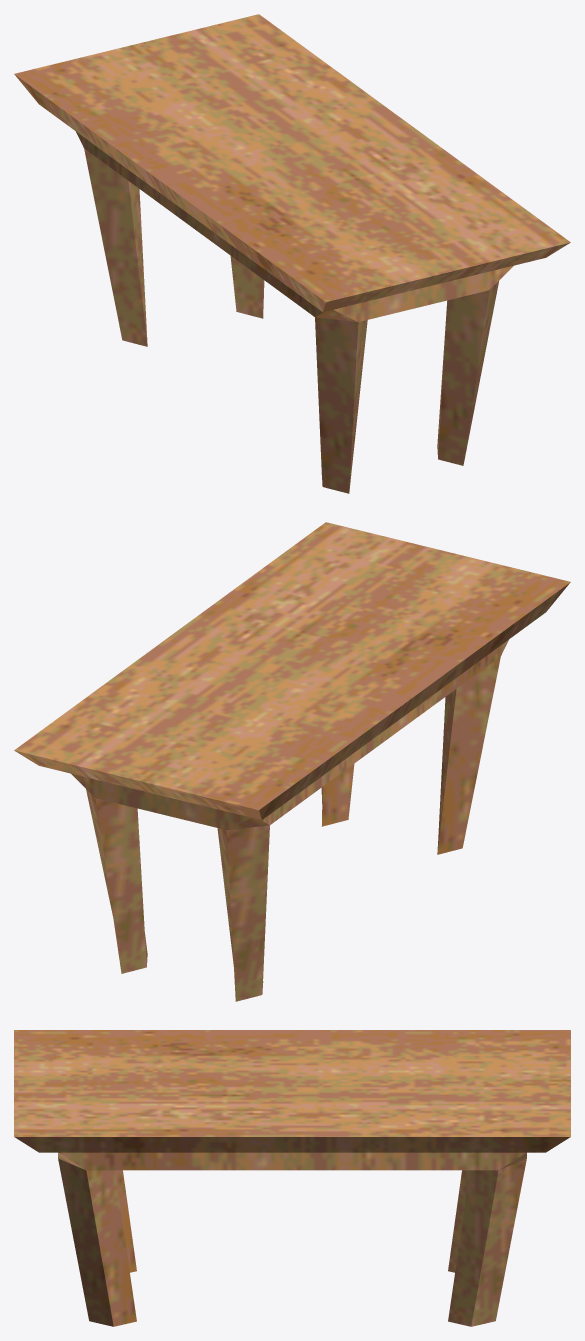
Rendered from Table.fbx.
The picture shows the model from 3 angles, top to bottom: view 1: azimuth 30°, elevation 25°; view 2: azimuth 150°, elevation 25°; view 3: azimuth 270°, elevation 25°; orthographic projection. The views are drawn at different scales.
Parts seen in each view (by area): view 1: Cube; view 2: Cube; view 3: Cube.
Part boxes in pixels (x1=…): Cube: x1=14, y1=14, x2=570, y2=493; Cube: x1=14, y1=522, x2=570, y2=1001; Cube: x1=14, y1=1030, x2=570, y2=1326.
Size of the model in its own units: 204 by 189 by 449.
